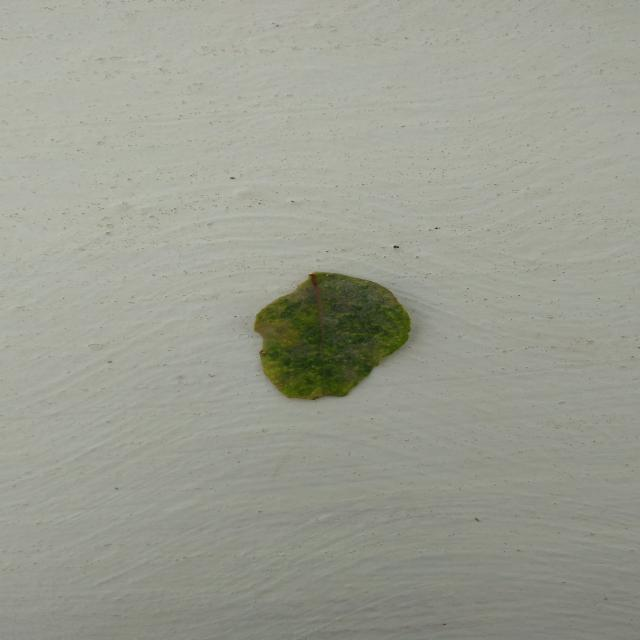Parijatha: (253, 272, 411, 399)
